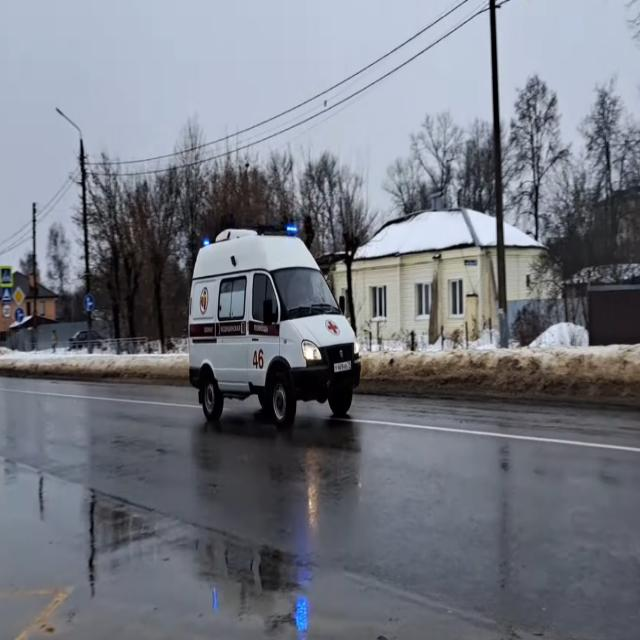ambulance: (187, 223, 363, 430)
non emergency car: (66, 327, 106, 353)
